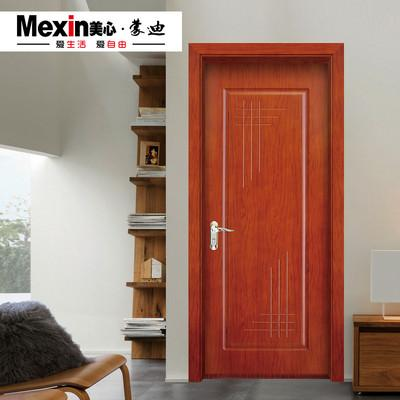door: (193, 46, 341, 377)
